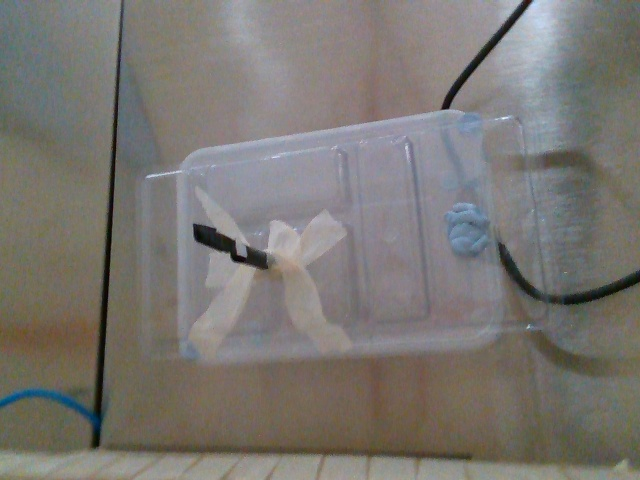test_strip: (188, 218, 246, 260)
